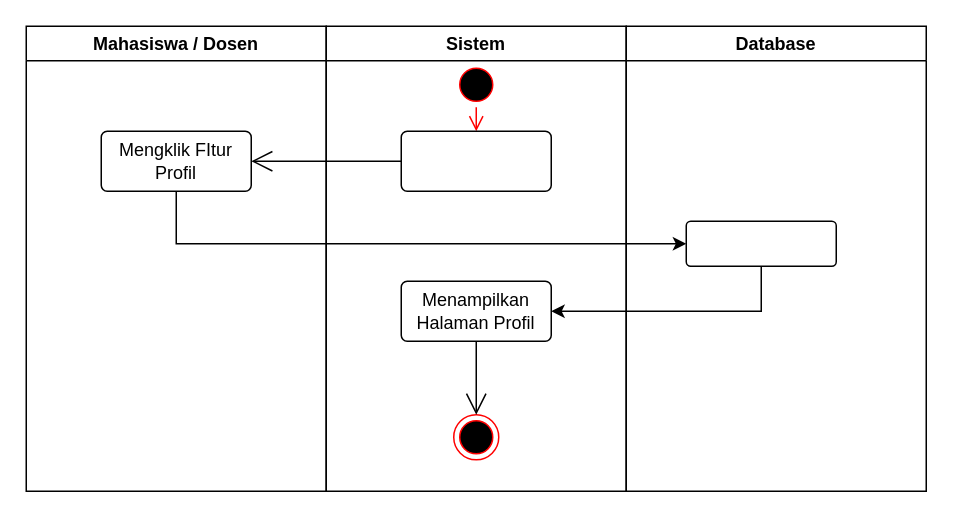
This 953x518 diagram has some shape labels left out. The shapes that lost their labels are listed below. From the top down, each one's centre as x and y in pixels, then its label:
At (475,160): "Menampilkan Halaman Utama".
At (760,243): "Mengambil Data".
